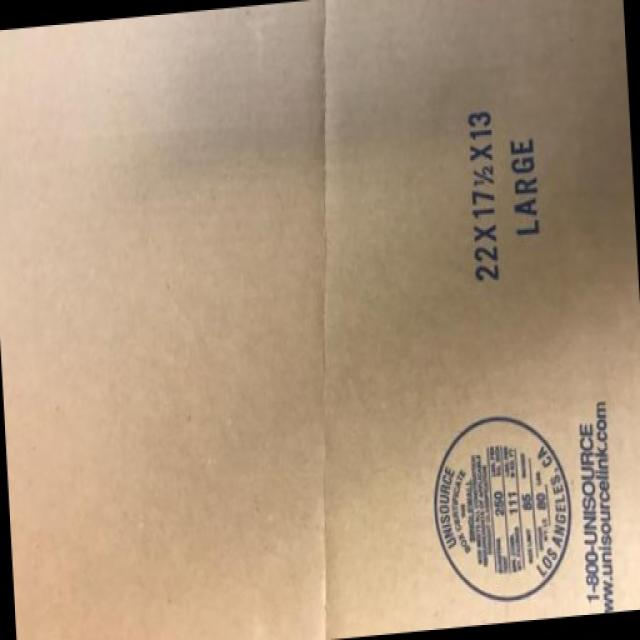carton: (52, 40, 552, 392)
